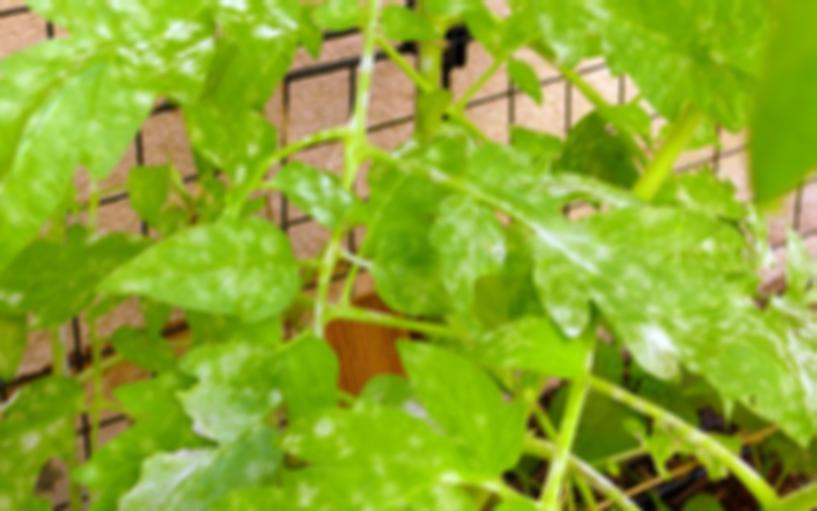Tomato mold leaf: (435, 140, 815, 451), (0, 0, 245, 440), (201, 337, 540, 511), (485, 0, 810, 115), (73, 212, 320, 317), (284, 159, 376, 230)
